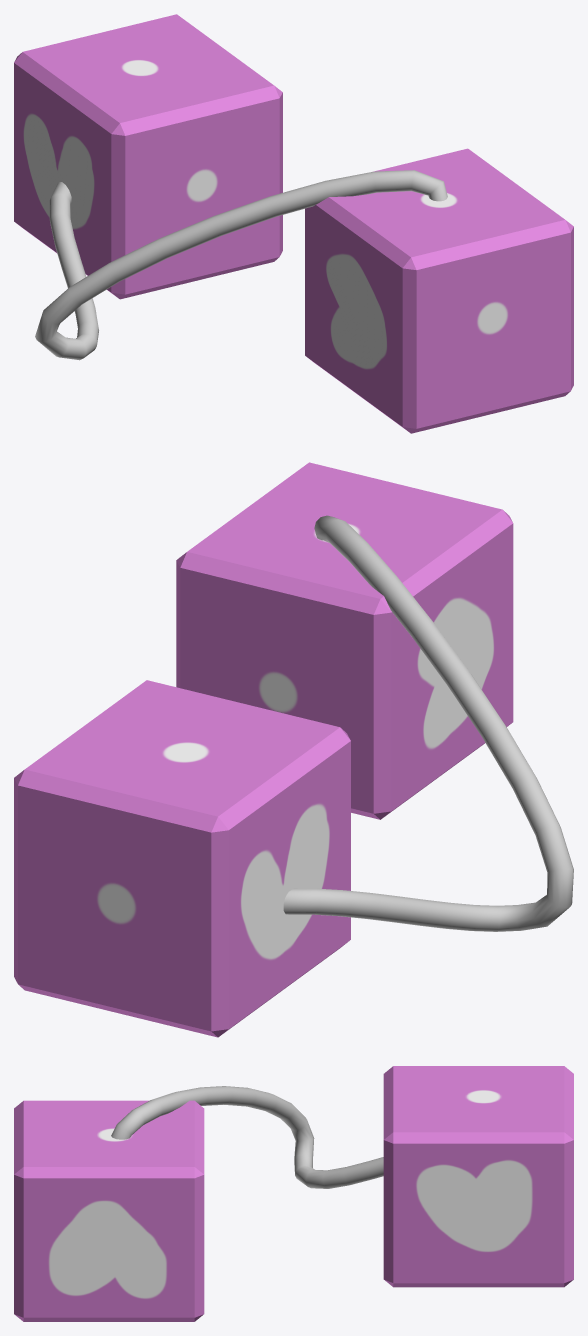
Rendered from dice.fbx.
The picture shows the model from 3 angles, top to bottom: view 1: azimuth 30°, elevation 25°; view 2: azimuth 150°, elevation 25°; view 3: azimuth 270°, elevation 25°; orthographic projection. The views are drawn at different scales.
Parts seen in each view (by area): view 1: Cube.001, Cube.002, BézierCurve; view 2: Cube.002, Cube.001, BézierCurve; view 3: Cube.002, Cube.001, BézierCurve.
Boxes of the visible parts, bbox=[...] form: Cube.001: bbox=[305, 148, 573, 433]; Cube.002: bbox=[14, 14, 282, 299]; BézierCurve: bbox=[35, 170, 447, 360]; Cube.002: bbox=[14, 680, 350, 1037]; Cube.001: bbox=[176, 462, 513, 819]; BézierCurve: bbox=[283, 515, 573, 931]; Cube.002: bbox=[383, 1066, 573, 1287]; Cube.001: bbox=[14, 1100, 204, 1321]; BézierCurve: bbox=[111, 1086, 383, 1188].
Bounding box in the file's own units: 20.35 × 10.27 × 29.77.
